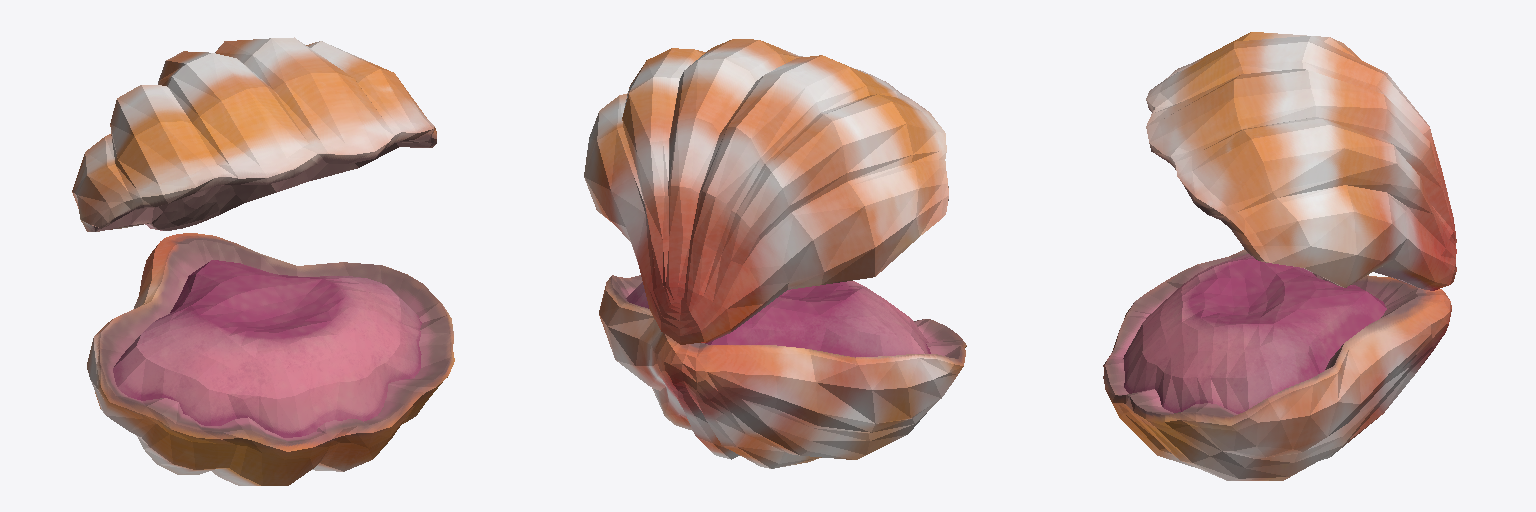
3 renders of one model, left to right at view 1: azimuth 30°, elevation 25°; view 2: azimuth 150°, elevation 25°; view 3: azimuth 270°, elevation 25°, orthographic.
Visible parts, largest first — view 1: obj1, obj2, obj3; view 2: obj1, obj3, obj2; view 3: obj1, obj3, obj2.
Part boxes in pixels (bbox=[...]): obj1: bbox=[72, 37, 436, 231]; obj2: bbox=[113, 260, 421, 437]; obj3: bbox=[87, 233, 454, 485]; obj1: bbox=[584, 39, 948, 344]; obj3: bbox=[599, 275, 966, 468]; obj2: bbox=[626, 281, 930, 357]; obj1: bbox=[1146, 32, 1456, 290]; obj3: bbox=[1103, 249, 1451, 480]; obj2: bbox=[1123, 254, 1386, 413].
Size of the model in its own units: 2.68 by 3 by 2.4.
1 materials, 1 textured.